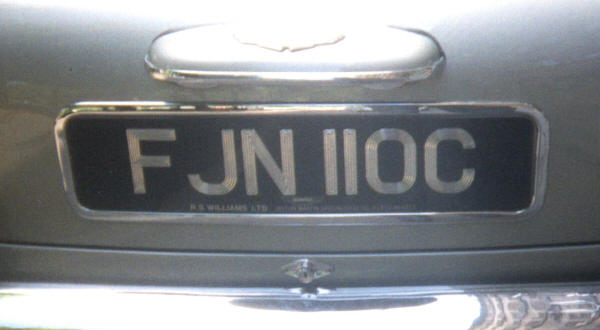license_plate: (55, 103, 546, 223)
